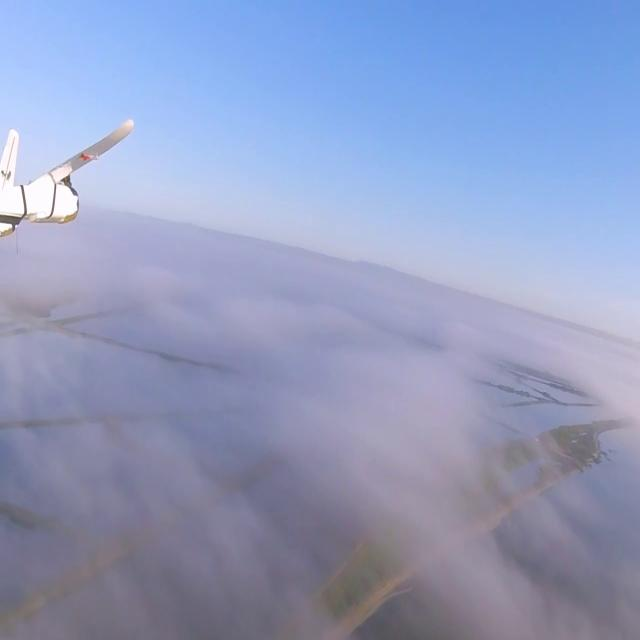iha: (0, 119, 70, 253)
